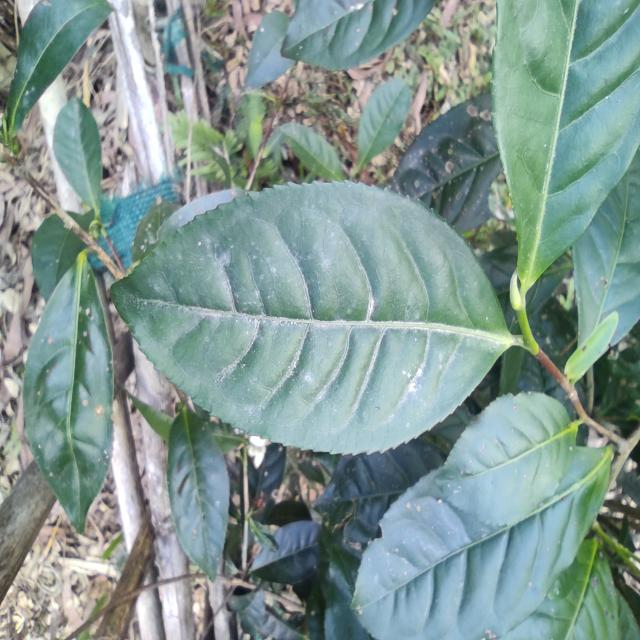Category D(7+ days, Not for Tea): (106, 178, 510, 461)
